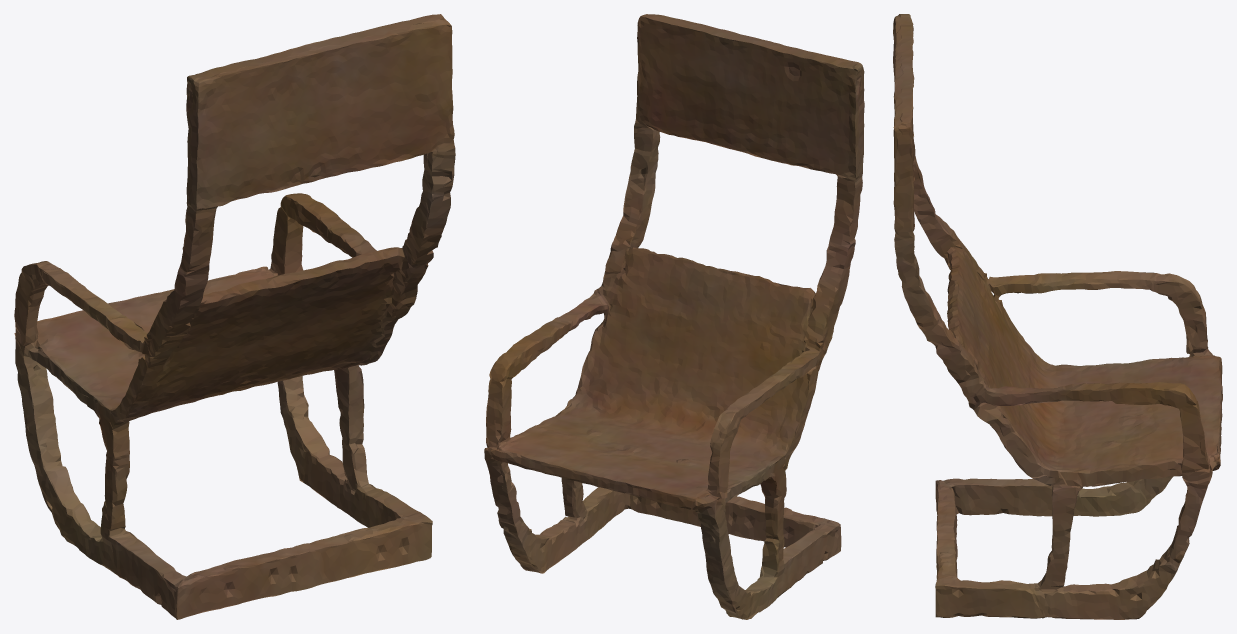
3 renders of one model, left to right at view 1: azimuth 30°, elevation 25°; view 2: azimuth 150°, elevation 25°; view 3: azimuth 270°, elevation 25°, orthographic. The views are drawn at different scales.
Parts seen in each view (by area): view 1: defaultobject; view 2: defaultobject; view 3: defaultobject.
Boxes of the visible parts, x1,y1,x2,y2 form: defaultobject: [14, 14, 455, 619]; defaultobject: [484, 14, 864, 619]; defaultobject: [893, 14, 1222, 619].
Size of the model in its own units: 0.4187 by 0.8033 by 0.4859.
